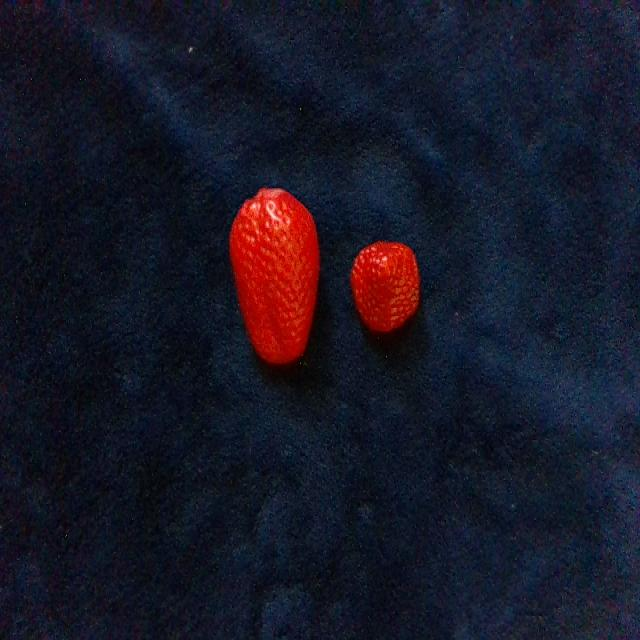chica_roja: (351, 243, 417, 329)
grande_roja: (231, 189, 318, 363)
